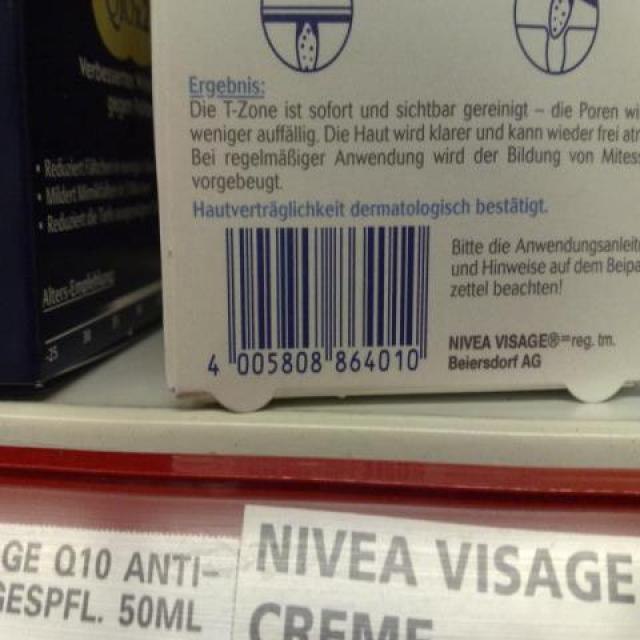Barcode: (201, 218, 436, 382)
